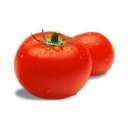tomato: (14, 31, 92, 99), (69, 31, 114, 75)
